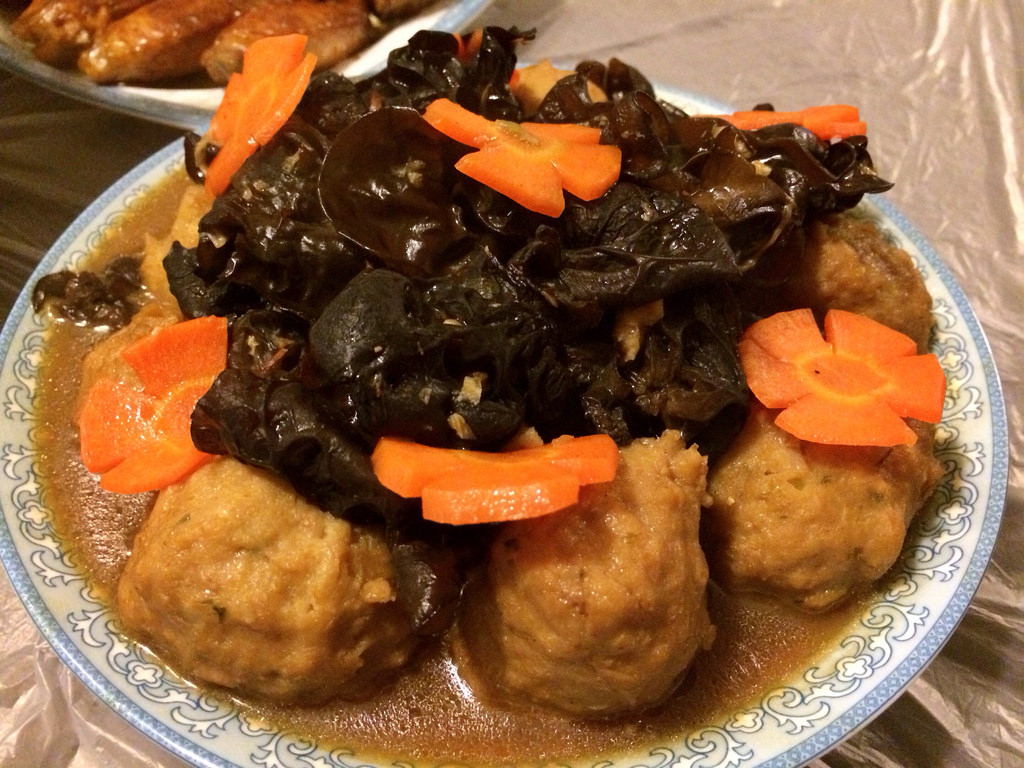meatballs: (107, 455, 463, 697), (447, 450, 744, 715), (712, 400, 949, 609), (739, 202, 953, 341)
